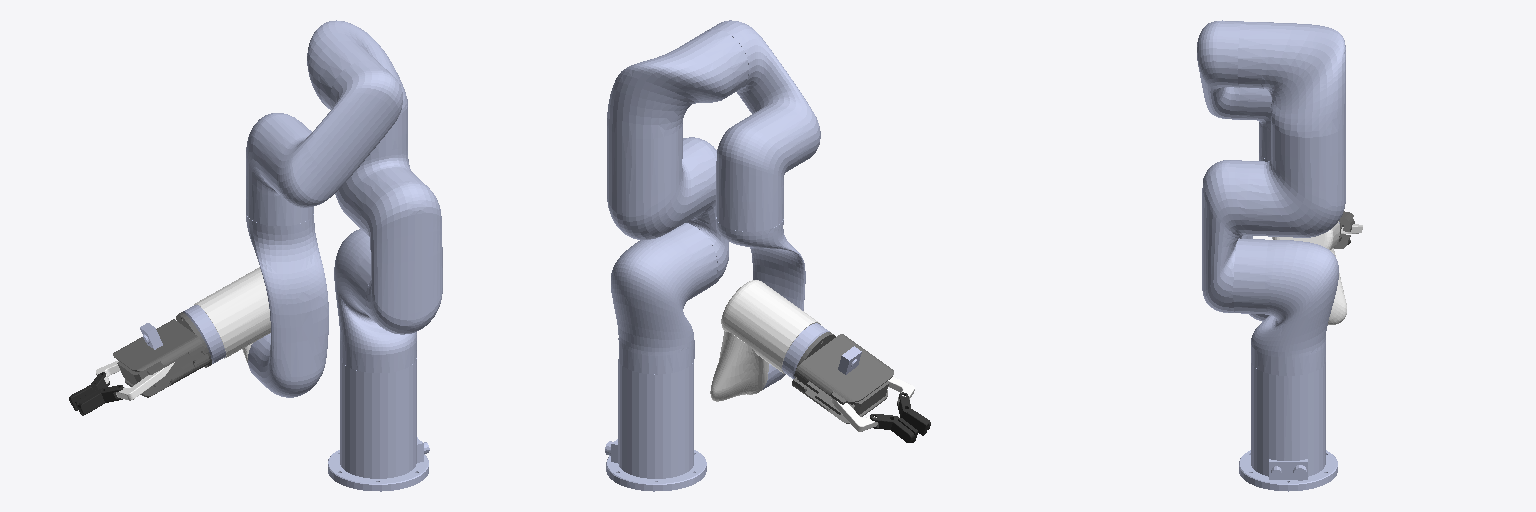
URDF robot description (arm):
<?xml version="1.0" encoding="utf-8"?>
<!-- This URDF was automatically created by SolidWorks to URDF Exporter! Originally created by [author] ([email redacted]) 
     Commit Version: 1.6.0-4-g7f85cfe  Build Version: 1.6.7995.38578
     For more information, please see http://wiki.ros.org/sw_urdf_exporter -->
<robot
  name="arm">
  <link name="world"/>

  <joint name="base_joint" type="fixed">
	<parent link="world"/>
	<child link="arm_base_link"/>
	<origin rpy="0 0 3.142" xyz="0.0 0.0 0.0"/>
  </joint>
  
  <link
    name="arm_base_link">
    <inertial>
      <origin
        xyz="-0.000473337349444787 -1.32028098241679E-05 0.07239105763563"
        rpy="0 0 0" />
      <mass
        value="1.14215420338987" />
      <inertia
        ixx="0.00307129989590757"
        ixy="-8.29782523845812E-07"
        ixz="-2.69723152811933E-05"
        iyy="0.00309572763575694"
        iyz="-7.52339424710021E-07"
        izz="0.00142221302621762" />
    </inertial>
    <visual>
      <origin
        xyz="0 0 0"
        rpy="0 0 0" />
      <geometry>
        <mesh
          filename="package://arm/meshes/arm_base_link.STL" />
      </geometry>
      <material
        name="">
        <color
          rgba="0.796078431372549 0.823529411764706 0.937254901960784 1" />
      </material>
    </visual>
    <collision>
      <origin
        xyz="0 0 0"
        rpy="0 0 0" />
      <geometry>
        <mesh
          filename="package://arm/meshes/arm_base_link.STL" />
      </geometry>
    </collision>
  </link>
  <link
    name="Link_1">
    <inertial>
      <origin
        xyz="-0.00165424841298431 0.000160925607043449 0.0844306458447921"
        rpy="0 0 0" />
      <mass
        value="1.30372268529311" />
      <inertia
        ixx="0.00340485151667065"
        ixy="4.73951898002371E-05"
        ixz="0.000218825292664858"
        iyy="0.003887980508731"
        iyz="-2.1277658692258E-05"
        izz="0.0019602389123672" />
    </inertial>
    <visual>
      <origin
        xyz="0 0 0"
        rpy="0 0 0" />
      <geometry>
        <mesh
          filename="package://arm/meshes/Link_1.STL" />
      </geometry>
      <material
        name="">
        <color
          rgba="0.792156862745098 0.819607843137255 0.933333333333333 1" />
      </material>
    </visual>
    <collision>
      <origin
        xyz="0 0 0"
        rpy="0 0 0" />
      <geometry>
        <mesh
          filename="package://arm/meshes/Link_1.STL" />
      </geometry>
    </collision>
  </link>
  <joint
    name="Joint_1"
    type="revolute">
    <origin
      xyz="0 0 0.154"
      rpy="0 0 -1.5707963267949" />
    <parent
      link="arm_base_link" />
    <child
      link="Link_1" />
    <axis
      xyz="0 0 -1" />
    <limit
      lower="0"
      upper="6.28"
      effort="11"
      velocity="2" />
  </joint>
  <link
    name="Link_2">
    <inertial>
      <origin
        xyz="0.00466897689329795 -0.162155529525145 -0.0536740155305947"
        rpy="0 0 0" />
      <mass
        value="2.97373269361303" />
      <inertia
        ixx="0.0324167102807371"
        ixy="0.00297981473551184"
        ixz="-0.000417973991868469"
        iyy="0.00996768059711576"
        iyz="-0.00718854159517085"
        izz="0.0278574337135304" />
    </inertial>
    <visual>
      <origin
        xyz="0 0 0"
        rpy="0 0 0" />
      <geometry>
        <mesh
          filename="package://arm/meshes/Link_2.STL" />
      </geometry>
      <material
        name="">
        <color
          rgba="0.792156862745098 0.819607843137255 0.933333333333333 1" />
      </material>
    </visual>
    <collision>
      <origin
        xyz="0 0 0"
        rpy="0 0 0" />
      <geometry>
        <mesh
          filename="package://arm/meshes/Link_2.STL" />
      </geometry>
    </collision>
  </link>
  <joint
    name="Joint_2"
    type="revolute">
    <origin
      xyz="-0.0650932810459635 0.00632651267849924 0.115"
      rpy="-1.5707963267949 0 1.5707963267949" />
    <parent
      link="Link_1" />
    <child
      link="Link_2" />
    <axis
      xyz="-0.0967356678669598 0 -0.995310107736445" />
    <limit
      lower="0"
      upper="2.059"
      effort="11"
      velocity="2" />
  </joint>
  <link
    name="Link_3">
    <inertial>
      <origin
        xyz="0.0625571705747566 0.0757694435809385 -0.0197412102243116"
        rpy="0 0 0" />
      <mass
        value="1.45765591046506" />
      <inertia
        ixx="0.00668130936621989"
        ixy="-0.00179290985390331"
        ixz="0.00110761034441912"
        iyy="0.00505646179124057"
        iyz="0.00210611277510792"
        izz="0.00576711177260289" />
    </inertial>
    <visual>
      <origin
        xyz="0 0 0"
        rpy="0 0 0" />
      <geometry>
        <mesh
          filename="package://arm/meshes/Link_3.STL" />
      </geometry>
      <material
        name="">
        <color
          rgba="0.792156862745098 0.819607843137255 0.933333333333333 1" />
      </material>
    </visual>
    <collision>
      <origin
        xyz="0 0 0"
        rpy="0 0 0" />
      <geometry>
        <mesh
          filename="package://arm/meshes/Link_3.STL" />
      </geometry>
    </collision>
  </link>
  <joint
    name="Joint_3"
    type="revolute">
    <origin
      xyz="0.0530599818434298 -0.28455 -0.00515697845398792"
      rpy="0 0 0" />
    <parent
      link="Link_2" />
    <child
      link="Link_3" />
    <axis
      xyz="-0.0967356678669597 0 -0.995310107736445" />
    <limit
      lower="0"
      upper="3.8"
      effort="11"
      velocity="2" />
  </joint>
  <link
    name="Link_4">
    <inertial>
      <origin
        xyz="0.00285172563081149 -0.0260073157026074 0.123071893834179"
        rpy="0 0 0" />
      <mass
        value="0.681236680376837" />
      <inertia
        ixx="0.00500336377068867"
        ixy="2.58053015699419E-05"
        ixz="-2.97059053335618E-05"
        iyy="0.00481793578053504"
        iyz="0.0004000736752812"
        izz="0.000727383609966516" />
    </inertial>
    <visual>
      <origin
        xyz="0 0 0"
        rpy="0 0 0" />
      <geometry>
        <mesh
          filename="package://arm/meshes/Link_4.STL" />
      </geometry>
      <material
        name="">
        <color
          rgba="0.792156862745098 0.819607843137255 0.933333333333333 1" />
      </material>
    </visual>
    <collision>
      <origin
        xyz="0 0 0"
        rpy="0 0 0" />
      <geometry>
        <mesh
          filename="package://arm/meshes/Link_4.STL" />
      </geometry>
    </collision>
  </link>
  <joint
    name="Joint_4"
    type="revolute">
    <origin
      xyz="0.0784902400245383 0.17127 -0.0648971665089489"
      rpy="-1.5707963267949 0 0" />
    <parent
      link="Link_3" />
    <child
      link="Link_4" />
    <axis
      xyz="0 0 -1" />
    <limit
      lower="0"
      upper="6.28"
      effort="11"
      velocity="2" />
  </joint>
  <link
    name="Link_5">
    <inertial>
      <origin
        xyz="0.0286748088454602 0.0507749814554782 0.0178696299113226"
        rpy="0 0 0" />
      <mass
        value="0.669420581705739" />
      <inertia
        ixx="0.00103371950695079"
        ixy="-0.000251635215467511"
        ixz="5.62376905693041E-05"
        iyy="0.000906027580900811"
        iyz="0.000124543947445442"
        izz="0.00143040150433598" />
    </inertial>
    <visual>
      <origin
        xyz="0 0 0"
        rpy="0 0 0" />
      <geometry>
        <mesh
          filename="package://arm/meshes/Link_5.STL" />
      </geometry>
      <material
        name="">
        <color
          rgba="1 1 1 1" />
      </material>
    </visual>
    <collision>
      <origin
        xyz="0 0 0"
        rpy="0 0 0" />
      <geometry>
        <mesh
          filename="package://arm/meshes/Link_5.STL" />
      </geometry>
    </collision>
  </link>
  <joint
    name="Joint_5"
    type="revolute">
    <origin
      xyz="-0.000337607480855595 0.00347363227600019 0.2"
      rpy="-1.5707963267949 0 0" />
    <parent
      link="Link_4" />
    <child
      link="Link_5" />
    <axis
      xyz="0.0967356678669599 0 -0.995310107736445" />
    <limit
      lower="-0.83"
      upper="2.9"
      effort="11"
      velocity="2" />
  </joint>
  <link
    name="End_effector">
    <inertial>
      <origin
        xyz="1.79542801708177E-05 -0.000122480752124874 0.0096061474499399"
        rpy="0 0 0" />
      <mass
        value="0.0806378641781996" />
      <inertia
        ixx="3.24265145588332E-05"
        ixy="8.12727483201835E-08"
        ixz="-8.01864845172061E-10"
        iyy="3.18840006785951E-05"
        iyz="5.47017248285155E-09"
        izz="5.90805865629779E-05" />
    </inertial>
    <visual>
      <origin
        xyz="0 0 0"
        rpy="0 0 0" />
      <geometry>
        <mesh
          filename="package://arm/meshes/End_effector.STL" />
      </geometry>
      <material
        name="">
        <color
          rgba="0.792156862745098 0.819607843137255 0.933333333333333 1" />
      </material>
    </visual>
    <collision>
      <origin
        xyz="0 0 0"
        rpy="0 0 0" />
      <geometry>
        <mesh
          filename="package://arm/meshes/End_effector.STL" />
      </geometry>
    </collision>
  </link>
  <joint
    name="End_effector_Joint"
    type="revolute">
    <origin
      xyz="0.0872672717341501 0.0490789751008787 0.0185287556820571"
      rpy="1.47993501318796 -0.0336819095690923 1.21676367586924" />
    <parent
      link="Link_5" />
    <child
      link="End_effector" />
    <axis
      xyz="0 0 -1" />
    <limit
      lower="0"
      upper="6.28"
      effort="11"
      velocity="2" />
  </joint>
  <link
    name="Gripper_base">
    <inertial>
      <origin
        xyz="7.70182675857711E-06 -3.45372920922127E-07 0.0440536598355998"
        rpy="0 0 0" />
      <mass
        value="0.144340160157627" />
      <inertia
        ixx="0.00021511317736329"
        ixy="2.00140097060607E-05"
        ixz="1.79902238875265E-08"
        iyy="0.000154298584782079"
        iyz="-8.00652364350352E-10"
        izz="0.000101455826246438" />
    </inertial>
    <visual>
      <origin
        xyz="0 0 0"
        rpy="0 0 0" />
      <geometry>
        <mesh
          filename="package://arm/meshes/Gripper_base.STL" />
      </geometry>
      <material
        name="">
        <color
          rgba="0.501960784313725 0.501960784313725 0.501960784313725 1" />
      </material>
    </visual>
    <collision>
      <origin
        xyz="0 0 0"
        rpy="0 0 0" />
      <geometry>
        <mesh
          filename="package://arm/meshes/Gripper_base.STL" />
      </geometry>
    </collision>
  </link>
  <joint
    name="Gripper_base_joint"
    type="fixed">
    <origin
      xyz="0 0 0.0171450000000004"
      rpy="0 0 -0.145551942518358" />
    <parent
      link="End_effector" />
    <child
      link="Gripper_base" />
    <axis
      xyz="0 0 0" />
  </joint>
  <link
    name="Gripper_arm_left">
    <inertial>
      <origin
        xyz="0.0415392668558662 0.018365565064578 0.0104837110778671"
        rpy="0 0 0" />
      <mass
        value="0.0127678157416076" />
      <inertia
        ixx="1.42841391003646E-06"
        ixy="-2.11525861803004E-06"
        ixz="-6.33763992249554E-07"
        iyy="8.95021294973568E-06"
        iyz="-3.35016397061264E-07"
        izz="9.96799180030045E-06" />
    </inertial>
    <visual>
      <origin
        xyz="0 0 0"
        rpy="0 0 0" />
      <geometry>
        <mesh
          filename="package://arm/meshes/Gripper_arm_left.STL" />
      </geometry>
      <material
        name="">
        <color
          rgba="1 1 1 1" />
      </material>
    </visual>
    <collision>
      <origin
        xyz="0 0 0"
        rpy="0 0 0" />
      <geometry>
        <mesh
          filename="package://arm/meshes/Gripper_arm_left.STL" />
      </geometry>
    </collision>
  </link>
  <joint
    name="Gripper_arm_left_Joint"
    type="revolute">
    <origin
      xyz="0 -0.0166250000000014 0.0488750000000003"
      rpy="3.03621521440085 -1.57079631189374 0.0947157459884758" />
    <parent
      link="Gripper_base" />
    <child
      link="Gripper_arm_left" />
    <axis
      xyz="0 0.287009841740442 -0.957927633354486" />
    <limit
      lower="-1.22"
      upper="0.06"
      effort="11"
      velocity="2" />
  </joint>
  <link
    name="left_finger">
    <inertial>
      <origin
        xyz="0.0276961872778643 -0.0147135019401428 0.00437246794423679"
        rpy="0 0 0" />
      <mass
        value="0.0111036375733557" />
      <inertia
        ixx="6.4850387494873E-07"
        ixy="5.06604740618564E-07"
        ixz="1.51784530404508E-07"
        iyy="2.82215176126583E-06"
        iyz="-2.48616489402422E-08"
        izz="2.89768159875783E-06" />
    </inertial>
    <visual>
      <origin
        xyz="0 0 0"
        rpy="0 0 0" />
      <geometry>
        <mesh
          filename="package://arm/meshes/left_finger.STL" />
      </geometry>
      <material
        name="">
        <color
          rgba="0.250980392156863 0.250980392156863 0.250980392156863 1" />
      </material>
    </visual>
    <collision>
      <origin
        xyz="0 0 0"
        rpy="0 0 0" />
      <geometry>
        <mesh
          filename="package://arm/meshes/left_finger.STL" />
      </geometry>
    </collision>
  </link>
  <joint
    name="left_finger_joint"
    type="fixed">
    <origin
      xyz="0.0760387769781833 0.012682131802507 0"
      rpy="0 0 0" />
    <parent
      link="Gripper_arm_left" />
    <child
      link="left_finger" />
    <axis
      xyz="0 0 0" />
  </joint>
  <link
    name="Gripper_arm_right">
    <inertial>
      <origin
        xyz="0.0415392668558654 -0.0183655650645822 -0.0104837110778671"
        rpy="0 0 0" />
      <mass
        value="0.0127678157416076" />
      <inertia
        ixx="1.42841391003647E-06"
        ixy="2.11525861803006E-06"
        ixz="6.33763992249559E-07"
        iyy="8.95021294973568E-06"
        iyz="-3.35016397061264E-07"
        izz="9.96799180030045E-06" />
    </inertial>
    <visual>
      <origin
        xyz="0 0 0"
        rpy="0 0 0" />
      <geometry>
        <mesh
          filename="package://arm/meshes/Gripper_arm_right.STL" />
      </geometry>
      <material
        name="">
        <color
          rgba="1 1 1 1" />
      </material>
    </visual>
    <collision>
      <origin
        xyz="0 0 0"
        rpy="0 0 0" />
      <geometry>
        <mesh
          filename="package://arm/meshes/Gripper_arm_right.STL" />
      </geometry>
    </collision>
  </link>
  <joint
    name="Gripper_arm_right_Joint"
    type="revolute">
    <origin
      xyz="0 0.0166249999999972 0.0488750000000009"
      rpy="3.04926331885819 -1.57079631189374 0.0947157459884758" />
    <parent
      link="Gripper_base" />
    <child
      link="Gripper_arm_right" />
    <axis
      xyz="0 0.287009841740441 -0.957927633354486" />
    <limit
      lower="0"
      upper="0"
      effort="11"
      velocity="2" />
    <mimic
      joint="Gripper_arm_left_Joint"
      multiplier="-1"
      offset="0" />
  </joint>
  <link
    name="Right_finger">
    <inertial>
      <origin
        xyz="0.027616145582933 0.0148633586436651 -0.00432757204095563"
        rpy="0 0 0" />
      <mass
        value="0.0111036338959234" />
      <inertia
        ixx="6.54555696498015E-07"
        ixy="-5.18309449389992E-07"
        ixz="-1.5529184263656E-07"
        iyy="2.81659729446906E-06"
        iyz="-2.65257515723312E-08"
        izz="2.8971822175015E-06" />
    </inertial>
    <visual>
      <origin
        xyz="0 0 0"
        rpy="0 0 0" />
      <geometry>
        <mesh
          filename="package://arm/meshes/Right_finger.STL" />
      </geometry>
      <material
        name="">
        <color
          rgba="0.250980392156863 0.250980392156863 0.250980392156863 1" />
      </material>
    </visual>
    <collision>
      <origin
        xyz="0 0 0"
        rpy="0 0 0" />
      <geometry>
        <mesh
          filename="package://arm/meshes/Right_finger.STL" />
      </geometry>
    </collision>
  </link>
  <joint
    name="Right_finger_Joint"
    type="fixed">
    <origin
      xyz="0.0760387769781832 -0.012682131802507 0"
      rpy="0 0 0" />
    <parent
      link="Gripper_arm_right" />
    <child
      link="Right_finger" />
    <axis
      xyz="0 0 0" />
  </joint>
  <link
    name="RGB_camera">
    <inertial>
      <origin
        xyz="0.00952416675236908 0.000322242755626256 -0.0086020702736585"
        rpy="0 0 0" />
      <mass
        value="0.00851529124922691" />
      <inertia
        ixx="5.72032823016266E-07"
        ixy="-1.40620704134015E-22"
        ixz="3.97046694025453E-22"
        iyy="5.72032823016266E-07"
        iyz="-2.64697796016969E-23"
        izz="8.87510252850143E-07" />
    </inertial>
    <visual>
      <origin
        xyz="0 0 0"
        rpy="0 0 0" />
      <geometry>
        <mesh
          filename="package://arm/meshes/RGB_camera.STL" />
      </geometry>
      <material
        name="">
        <color
          rgba="0.792156862745098 0.819607843137255 0.933333333333333 1" />
      </material>
    </visual>
    <collision>
      <origin
        xyz="0 0 0"
        rpy="0 0 0" />
      <geometry>
        <mesh
          filename="package://arm/meshes/RGB_camera.STL" />
      </geometry>
    </collision>
  </link>
  <joint
    name="RGB_camera_Joint"
    type="fixed">
    <origin
      xyz="0.0328520110000001 0 0.0625449999999999"
      rpy="0 0 1.68252695082463" />
    <parent
      link="Gripper_base" />
    <child
      link="RGB_camera" />
    <axis
      xyz="0 0 0" />
  </joint>

   <transmission name="Link_1_trans">
	  <type>transmission_interface/SimpleTransmission</type>
	  <joint name="Joint_1">
		    <hardwareInterface>hardware_interface/PositionJointInterface</hardwareInterface>
	  </joint>
	  <actuator name="Link_1_motor">
		    <hardwareInterface>hardware_interface/PositionJointInterface</hardwareInterface>
		  <mechanicalReduction>1</mechanicalReduction>
	  </actuator>
  </transmission>

  <transmission name="Link_2_trans">
	  <type>transmission_interface/SimpleTransmission</type>
	  <joint name="Joint_2">
		    <hardwareInterface>hardware_interface/PositionJointInterface</hardwareInterface>
	  </joint>
	  <actuator name="Link_2_motor">
		    <hardwareInterface>hardware_interface/PositionJointInterface</hardwareInterface>
		  <mechanicalReduction>1</mechanicalReduction>
	  </actuator>
  </transmission>

  <transmission name="Link_3_trans">
	  <type>transmission_interface/SimpleTransmission</type>
	  <joint name="Joint_3">
		    <hardwareInterface>hardware_interface/PositionJointInterface</hardwareInterface>
	  </joint>
	  <actuator name="Link_3_motor">
		    <hardwareInterface>hardware_interface/PositionJointInterface</hardwareInterface>
		  <mechanicalReduction>1</mechanicalReduction>
	  </actuator>
  </transmission>

  <transmission name="Link_4_trans">
	  <type>transmission_interface/SimpleTransmission</type>
	  <joint name="Joint_4">
		  <hardwareInterface>hardware_interface/PositionJointInterface</hardwareInterface>
	  </joint>
	  <actuator name="Link_4_motor">
		    <hardwareInterface>hardware_interface/PositionJointInterface</hardwareInterface>
		  <mechanicalReduction>1</mechanicalReduction>
	  </actuator>
  </transmission>

  <transmission name="Link_5_trans">
	  <type>transmission_interface/SimpleTransmission</type>
	  <joint name="Joint_5">
	    	<hardwareInterface>hardware_interface/PositionJointInterface</hardwareInterface>
	  </joint>
	  <actuator name="Link_5_motor">
		    <hardwareInterface>hardware_interface/PositionJointInterface</hardwareInterface>
		  <mechanicalReduction>1</mechanicalReduction>
	  </actuator>
  </transmission>

  <transmission name="End_effector_trans">
	  <type>transmission_interface/SimpleTransmission</type>
	  <joint name="End_effector_Joint">
		    <hardwareInterface>hardware_interface/PositionJointInterface</hardwareInterface>
	  </joint>
	  <actuator name="End_effector_motor">
		    <hardwareInterface>hardware_interface/PositionJointInterface</hardwareInterface>
		  <mechanicalReduction>1</mechanicalReduction>
	  </actuator>
  </transmission>

  <transmission name="Gripper_arm_left_trans">
	  <type>transmission_interface/SimpleTransmission</type>
	  <joint name="Gripper_arm_left_Joint">
		    <hardwareInterface>hardware_interface/PositionJointInterface</hardwareInterface>
	  </joint>
	  <actuator name="Gripper_arm_left_motor">
	  	<hardwareInterface>hardware_interface/PositionJointInterface</hardwareInterface>
		   <mechanicalReduction>1</mechanicalReduction>
	  </actuator>
  </transmission>

  
  <transmission name="Gripper_arm_right_trans">
	  <type>transmission_interface/SimpleTransmission</type>
	  <joint name="Gripper_arm_right_Joint">
		  <hardwareInterface>hardware_interface/PositionJointInterface</hardwareInterface>
	  </joint>
	  <actuator name="Gripper_arm_right_motor">
		  <hardwareInterface>hardware_interface/PositionJointInterface</hardwareInterface>
		    <mechanicalReduction>1</mechanicalReduction>
	  </actuator>
  </transmission>


  <gazebo>
	  <plugin name="control" filename="libgazebo_ros_control.so">
		  <robotNamespace>/</robotNamespace>
	  </plugin>
  </gazebo>

  <gazebo reference="Link_1">
	      <selfCollide>true</selfCollide>
  </gazebo>

  <gazebo reference="Link_2">
	      <selfCollide>true</selfCollide>
  </gazebo>

  <gazebo reference="Link_3">
	      <selfCollide>true</selfCollide>
  </gazebo>

  <gazebo reference="Link_4">
	      <selfCollide>true</selfCollide>
  </gazebo>

  <gazebo reference="Link_5">
	      <selfCollide>true</selfCollide>
  </gazebo>

  <gazebo reference="End_effector">
	      <selfCollide>true</selfCollide>
  </gazebo>

  <gazebo reference="Gripper_arm_left">
	      <selfCollide>true</selfCollide>
  </gazebo>

  <gazebo reference="Gripper_arm_right">
	      <selfCollide>true</selfCollide>
  </gazebo>

</robot>

--- What the picture shows (computed from the rendered views, not written in the file) ---
The picture shows the robot from 3 angles, left to right: view 1: azimuth 30°, elevation 25°; view 2: azimuth 150°, elevation 25°; view 3: azimuth 270°, elevation 25°; orthographic projection.
Robot: arm — 14 links, 13 joints (8 revolute, 5 fixed); root link world; default pose: every joint at zero.
Links seen in each view (by area): view 1: Link_2, Link_3, Link_4, arm_base_link, Link_1, Gripper_base, Link_5, End_effector, left_finger, Gripper_arm_left; view 2: Link_2, Link_3, Link_1, arm_base_link, Link_5, Gripper_base, Link_4, End_effector, Right_finger, left_finger, Gripper_arm_right; view 3: Link_2, Link_1, arm_base_link, Link_3, Link_5.
Boxes of the visible links, left/top/right/bottom form: Link_2: left=307, top=20, right=442, bottom=334; Link_3: left=246, top=61, right=402, bottom=225; Link_4: left=246, top=214, right=328, bottom=397; arm_base_link: left=328, top=358, right=429, bottom=491; Link_1: left=334, top=229, right=416, bottom=372; Gripper_base: left=113, top=312, right=211, bottom=397; Link_5: left=194, top=267, right=270, bottom=368; End_effector: left=183, top=305, right=225, bottom=363; left_finger: left=75, top=385, right=123, bottom=415; Gripper_arm_left: left=116, top=362, right=174, bottom=400; Link_2: left=607, top=30, right=748, bottom=287; Link_3: left=705, top=20, right=820, bottom=231; Link_1: left=611, top=223, right=717, bottom=374; arm_base_link: left=605, top=359, right=706, bottom=491; Link_5: left=710, top=280, right=820, bottom=401; Gripper_base: left=792, top=332, right=893, bottom=423; Link_4: left=716, top=217, right=805, bottom=389; End_effector: left=782, top=323, right=829, bottom=378; Right_finger: left=870, top=414, right=917, bottom=442; left_finger: left=897, top=392, right=930, bottom=435; Gripper_arm_right: left=831, top=397, right=877, bottom=431; Link_2: left=1202, top=21, right=1345, bottom=312; Link_1: left=1233, top=238, right=1338, bottom=375; arm_base_link: left=1239, top=362, right=1337, bottom=491; Link_3: left=1197, top=20, right=1271, bottom=160; Link_5: left=1272, top=221, right=1346, bottom=324.
Bounding box of the posed robot: 0.4748 × 0.2107 × 0.5959 m (x, y, z).
13 mesh visuals loaded from 13 distinct referenced files (13 binary STL).